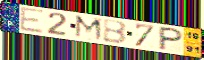2: (47, 12, 69, 38)
7: (134, 23, 156, 48)
B: (102, 19, 128, 46)
E: (19, 6, 45, 35)
M: (73, 14, 104, 44)
P: (157, 26, 186, 52)
